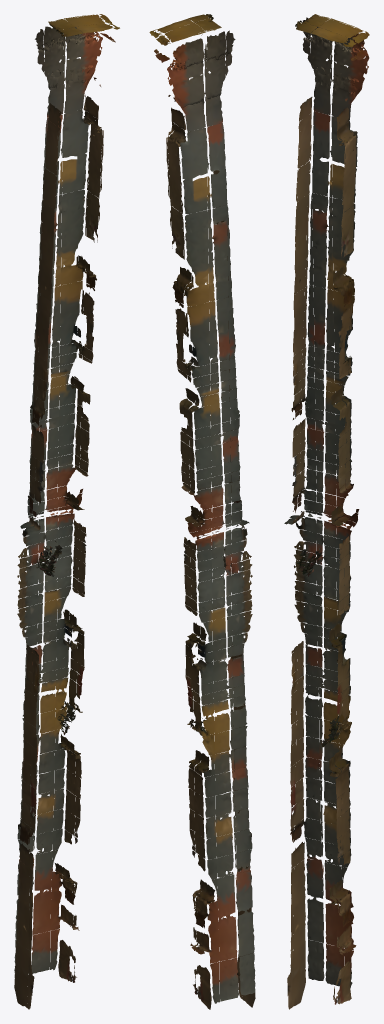
Rendered from hallway1.obj.
The picture shows the model from 3 angles, left to right: view 1: azimuth 30°, elevation 25°; view 2: azimuth 210°, elevation 25°; view 3: azimuth 330°, elevation 25°; orthographic projection. The views are drawn at different scales.
Bounding box in the file's own units: 4.05 × 46.27 × 2.88.
